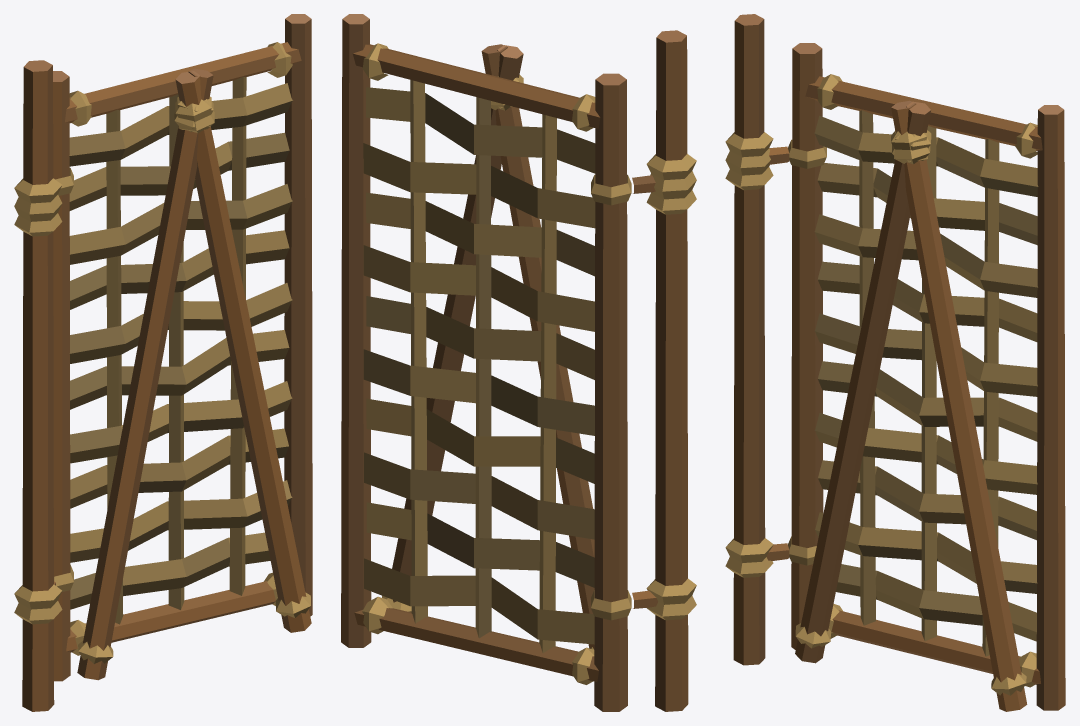
Rendered from survival-door-insert-3b50a8.glb.
3 views of the same model, side by side, from view 1: azimuth 30°, elevation 25°; view 2: azimuth 150°, elevation 25°; view 3: azimuth 330°, elevation 25° (orthographic). The views are drawn at different scales.
Visible parts, largest first — view 1: leaf-mesh, hinge-post; view 2: leaf-mesh, hinge-post; view 3: leaf-mesh, hinge-post.
Boxes of the visible parts, <box> form: leaf-mesh: <box>53,14,312,681</box>; hinge-post: <box>14,60,73,711</box>; leaf-mesh: <box>341,14,627,711</box>; hinge-post: <box>591,30,696,711</box>; leaf-mesh: <box>791,43,1065,711</box>; hinge-post: <box>725,14,826,665</box>.
Bounding box in the file's own units: 1.12 × 2.2 × 0.2658.
